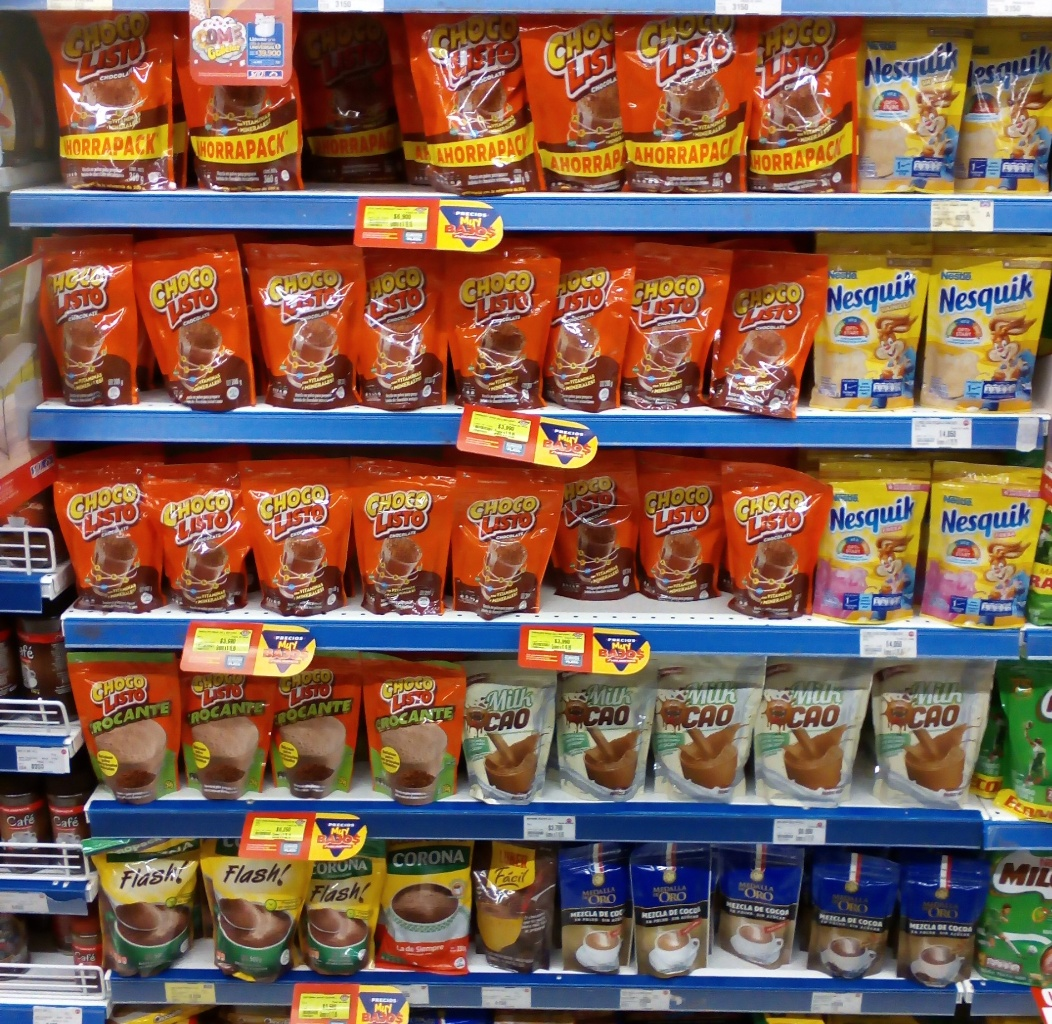COL0170102DYP25000: (62, 648, 182, 807)
COL0170103DYP20000: (28, 216, 142, 414)
COL0170103DYP36000: (23, 2, 184, 191)
COL0170203DYP50000: (984, 857, 1050, 979)
COL0170305DYP20000: (925, 446, 1046, 635)
COL0170306DYP20000: (926, 226, 1044, 416)
